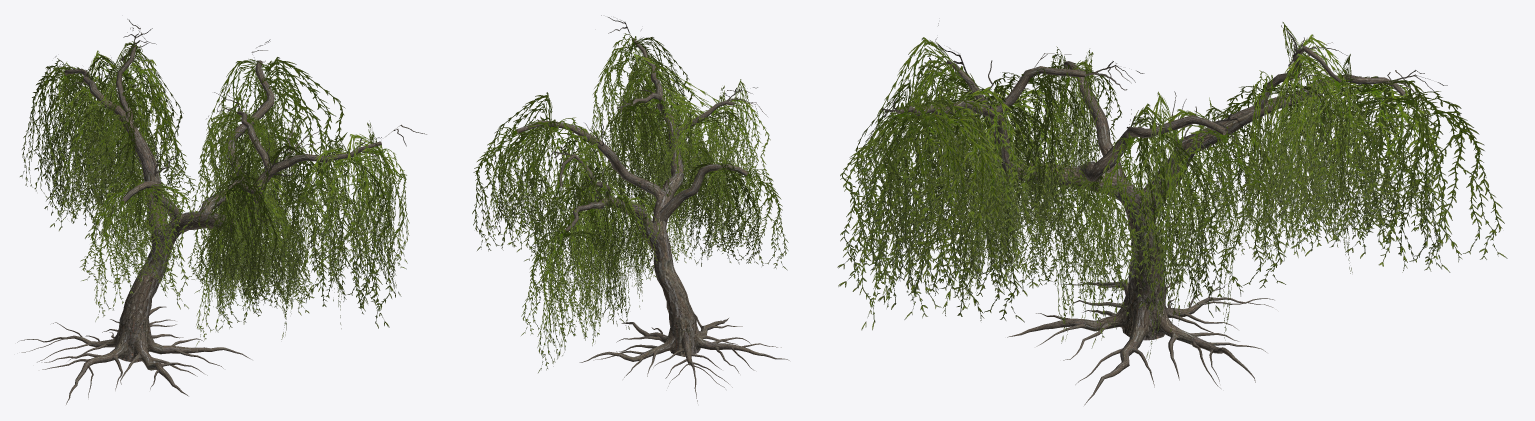
The picture shows the model from 3 angles, left to right: view 1: azimuth 30°, elevation 25°; view 2: azimuth 150°, elevation 25°; view 3: azimuth 270°, elevation 25°; orthographic projection. The views are drawn at different scales.
Visible parts, largest first — view 1: Weeping_willow_04_Branches_By_leaf_Sum_Mat_0, Weeping_willow_04_Weeping_Willow_Bark_Mat_0, Weeping_willow_04_Weeping_Willow_Branches_Mat_0; view 2: Weeping_willow_04_Branches_By_leaf_Sum_Mat_0, Weeping_willow_04_Weeping_Willow_Bark_Mat_0, Weeping_willow_04_Weeping_Willow_Branches_Mat_0; view 3: Weeping_willow_04_Branches_By_leaf_Sum_Mat_0, Weeping_willow_04_Weeping_Willow_Bark_Mat_0, Weeping_willow_04_Weeping_Willow_Branches_Mat_0.
Boxes of the visible parts, box(x1,y1,x2,y2) form: Weeping_willow_04_Branches_By_leaf_Sum_Mat_0: box(20, 41, 409, 347); Weeping_willow_04_Weeping_Willow_Bark_Mat_0: box(17, 44, 381, 404); Weeping_willow_04_Weeping_Willow_Branches_Mat_0: box(47, 19, 426, 222); Weeping_willow_04_Branches_By_leaf_Sum_Mat_0: box(472, 33, 788, 372); Weeping_willow_04_Weeping_Willow_Bark_Mat_0: box(516, 38, 789, 401); Weeping_willow_04_Weeping_Willow_Branches_Mat_0: box(547, 15, 767, 237); Weeping_willow_04_Branches_By_leaf_Sum_Mat_0: box(837, 22, 1507, 359); Weeping_willow_04_Weeping_Willow_Bark_Mat_0: box(898, 46, 1405, 405); Weeping_willow_04_Weeping_Willow_Branches_Mat_0: box(881, 23, 1447, 164).
Bounding box in the file's own units: 12.03 × 10 × 17.25.
3 materials, 3 textured.
